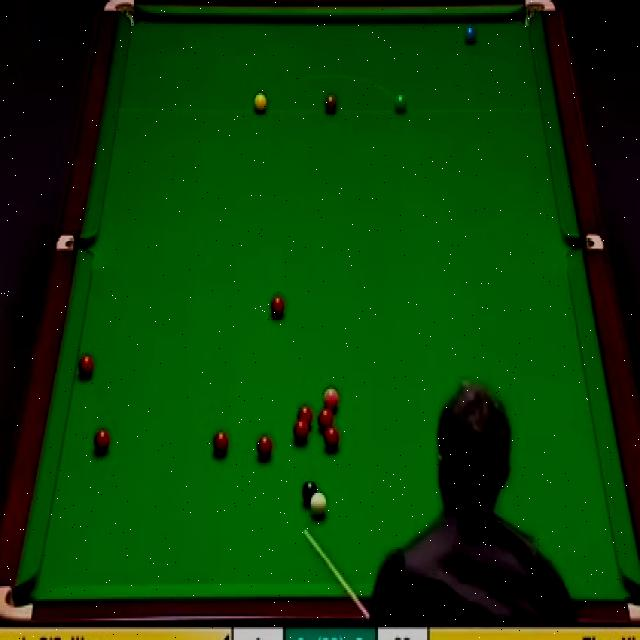black-ball: (302, 482, 318, 506)
blue-ball: (464, 25, 480, 43)
brown-ball: (324, 93, 338, 114)
green-ball: (393, 93, 408, 116)
pink-ball: (322, 384, 340, 411)
red-ball: (212, 430, 230, 459), (256, 434, 274, 462), (78, 354, 96, 380), (323, 424, 340, 450), (94, 428, 110, 455), (316, 407, 333, 431), (269, 296, 286, 320), (293, 421, 309, 444), (298, 405, 312, 429)
white-ball: (309, 490, 328, 522)
yellow-ball: (252, 92, 268, 114)
